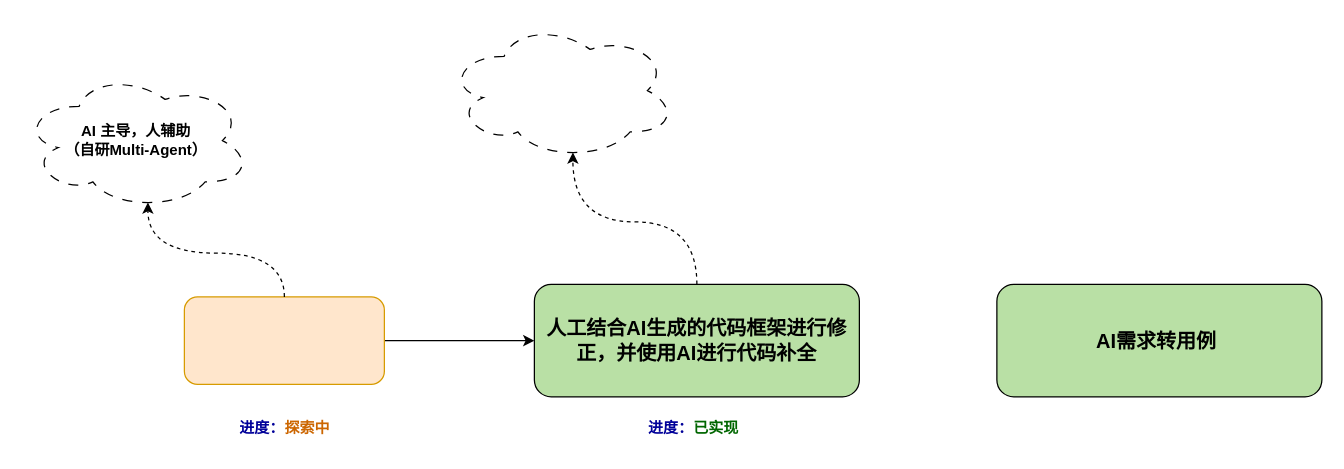
Image size: 1344x469. Some labels were removed from this diagram. Each missing label, with the box of its shape:
AI需求转代码: (183, 296, 384, 384)
人主导，AI辅助 （Ghitub Copilot）: (446, 21, 676, 159)
